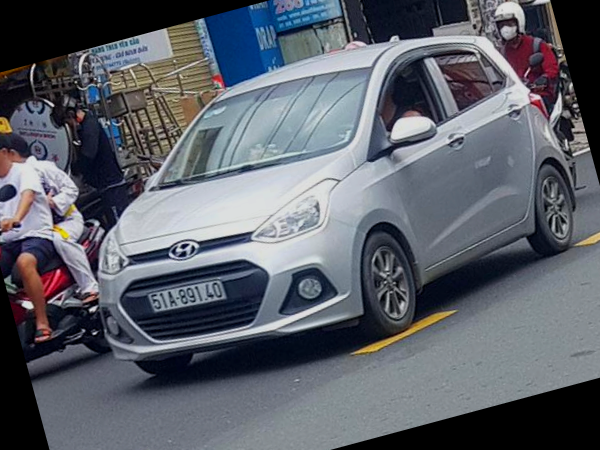lisence: (147, 278, 227, 314)
